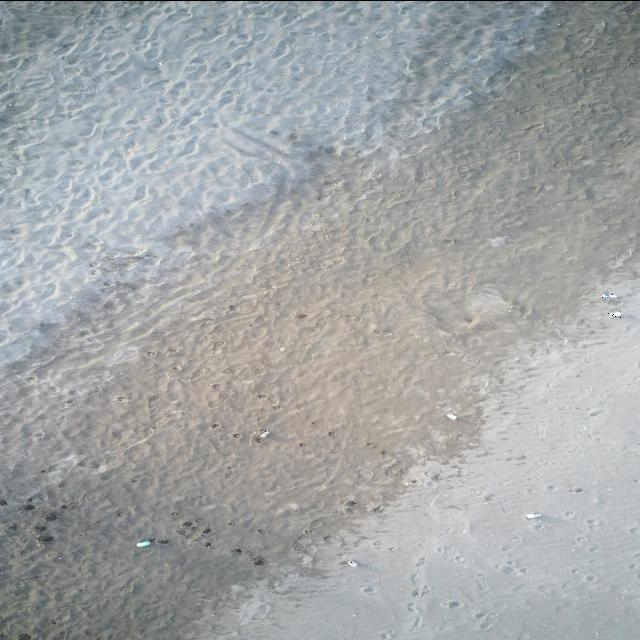Garbage: (249, 428, 270, 442), (489, 236, 507, 247), (37, 533, 52, 542), (252, 553, 263, 564), (136, 539, 151, 547), (524, 512, 540, 519), (601, 292, 616, 299), (259, 430, 268, 439), (607, 311, 622, 316), (447, 412, 456, 420), (347, 560, 356, 567), (159, 539, 167, 543)
